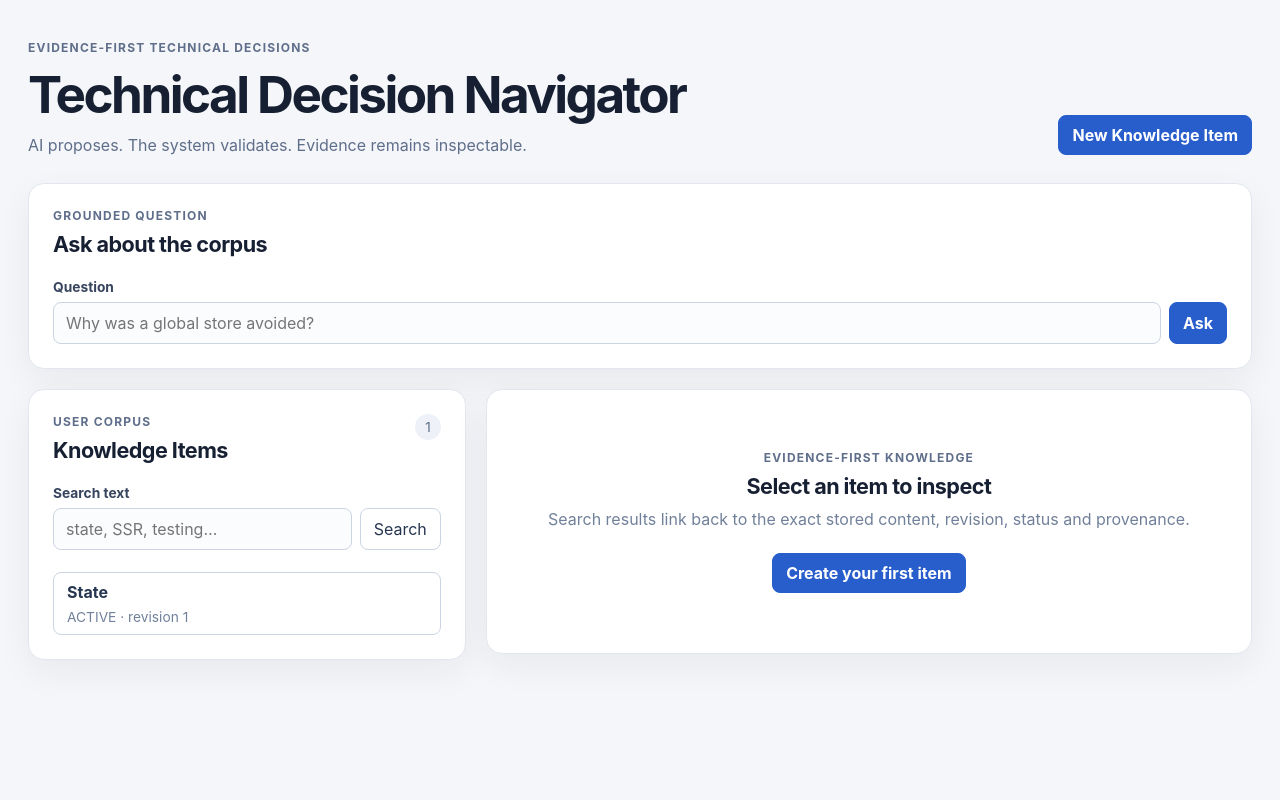
it: Slice B question surface › renders claim support and inspectable evidence
The image size is (1280, 800).
Expected: the text "State" is shown, [67, 582, 108, 602]
In the field labelled "Question": (607, 323) [53, 302, 1161, 344], type "Why is state local?"
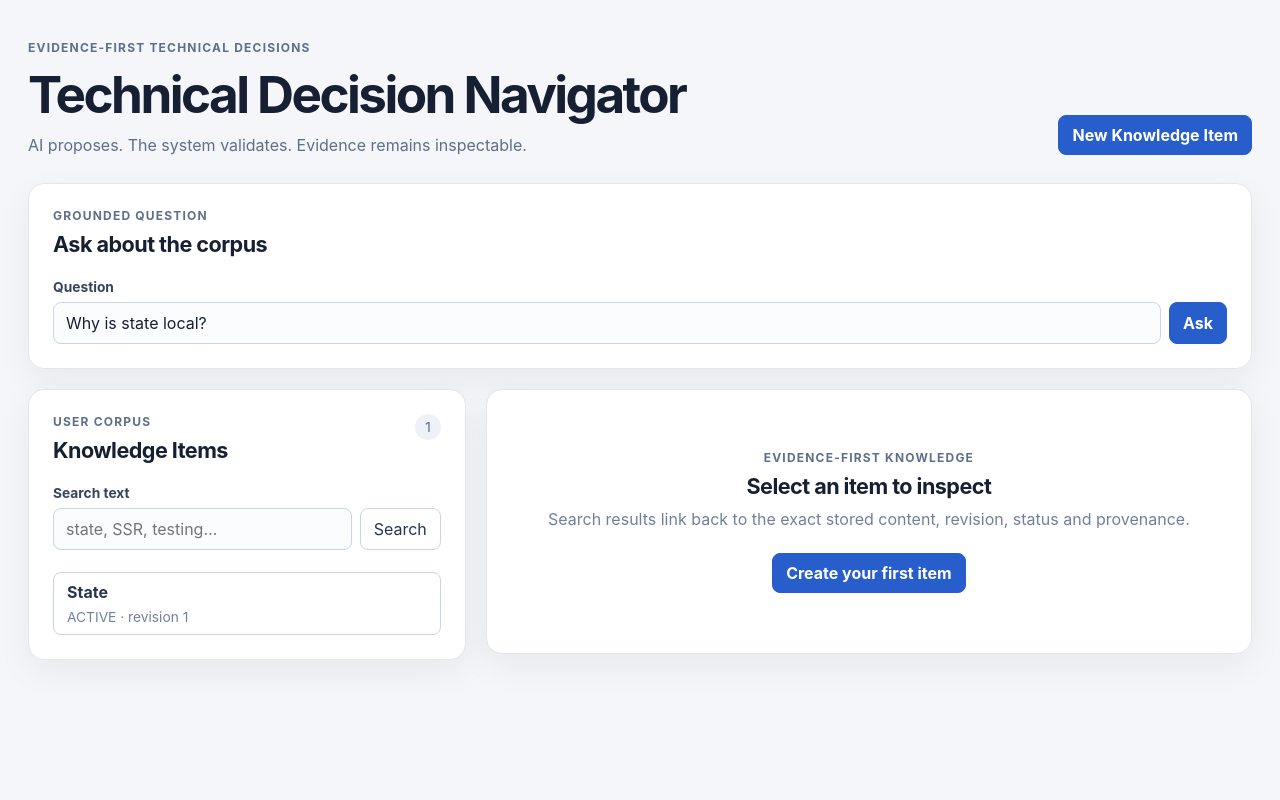
Click the button "Ask": (1198, 323) [1169, 302, 1227, 344]
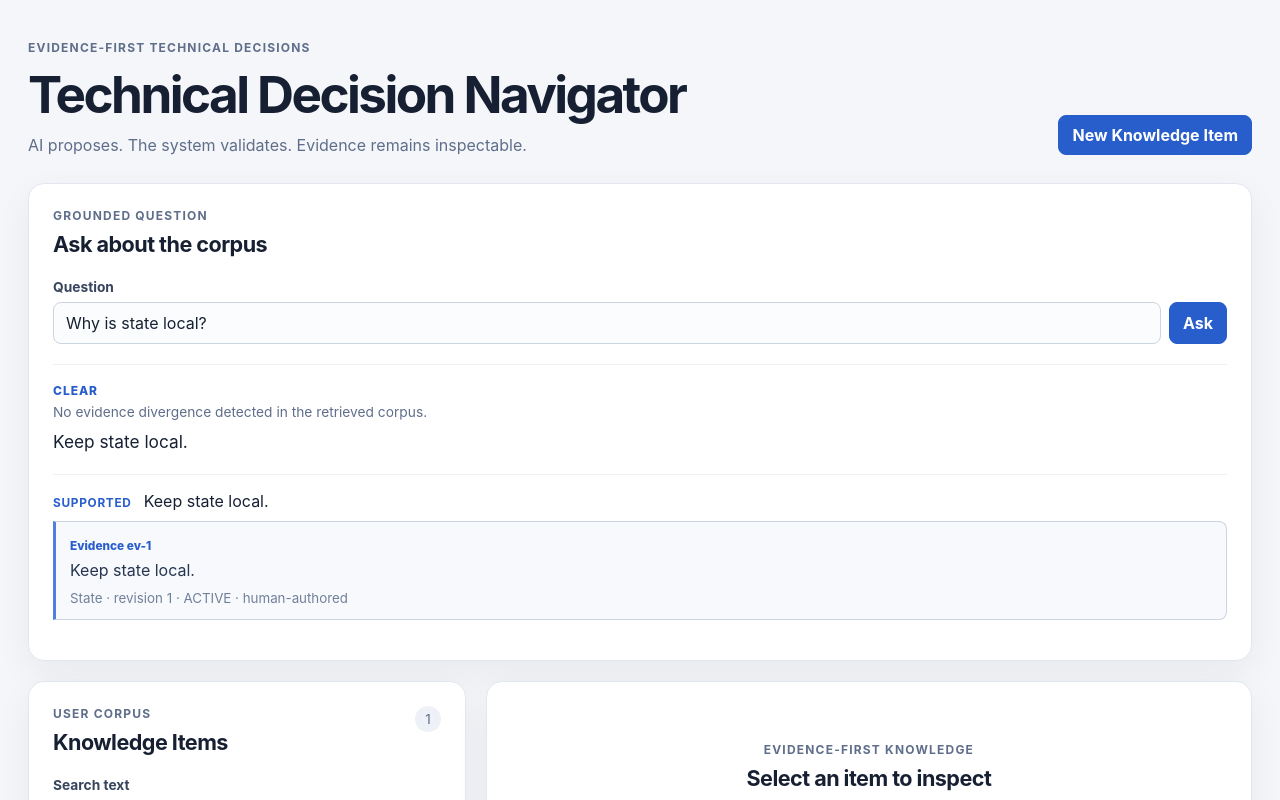
Expected: the text "SUPPORTED" is shown, [53, 496, 132, 510]
Expected: the text "Evidence ev-1" is shown, [70, 539, 151, 553]
